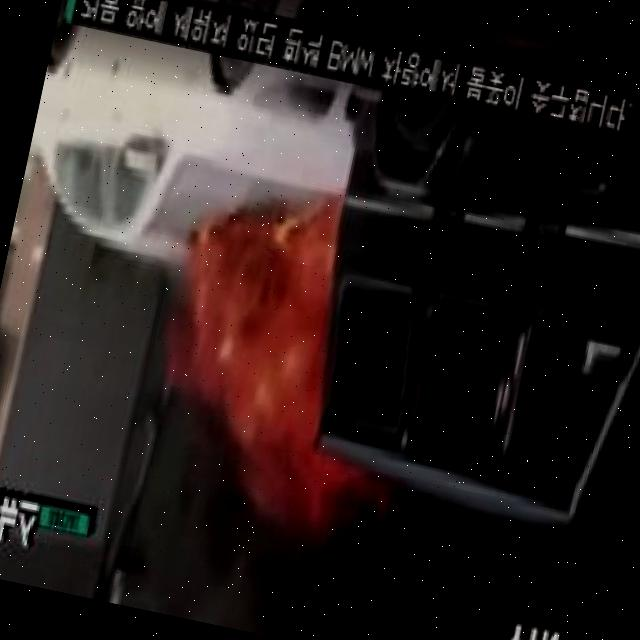fire: (128, 163, 360, 535), (281, 443, 399, 569)
